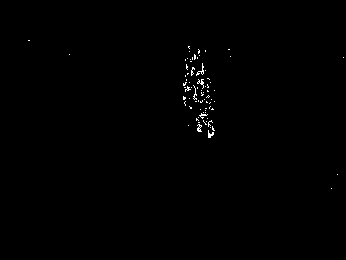person: (179, 70, 203, 135), (198, 74, 217, 140)
